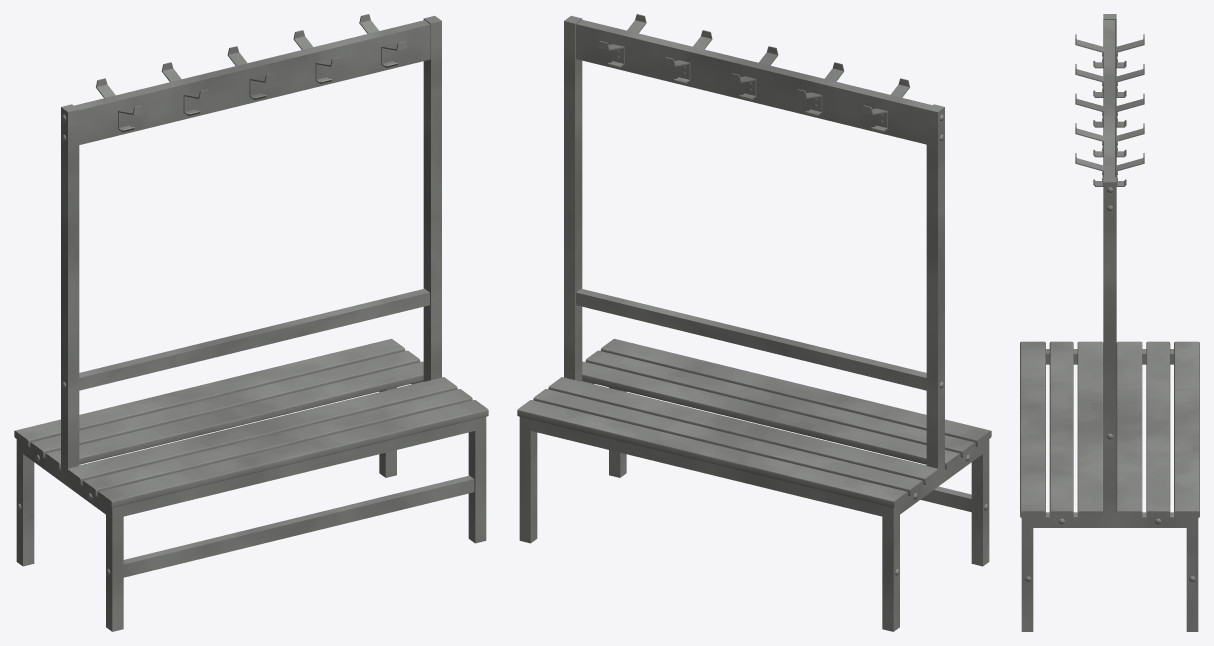
File: bench_changing.glb
3 views of the same model, side by side, from view 1: azimuth 30°, elevation 25°; view 2: azimuth 150°, elevation 25°; view 3: azimuth 270°, elevation 25° (orthographic). The views are drawn at different scales.
Parts seen in each view (by area): view 1: bench_changing; view 2: bench_changing; view 3: bench_changing.
Boxes of the visible parts, left/top/right/bottom form: bench_changing: left=14, top=14, right=488, bottom=631; bench_changing: left=517, top=14, right=991, bottom=631; bench_changing: left=1020, top=14, right=1199, bottom=631.
Size of the model in its own units: 1.35 by 1.68 by 0.6047.
Materials: 1 (1 with a texture image).
